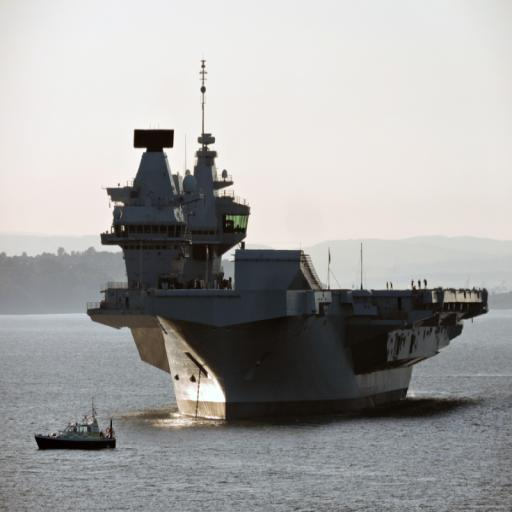Portanaves: (88, 52, 495, 428)
